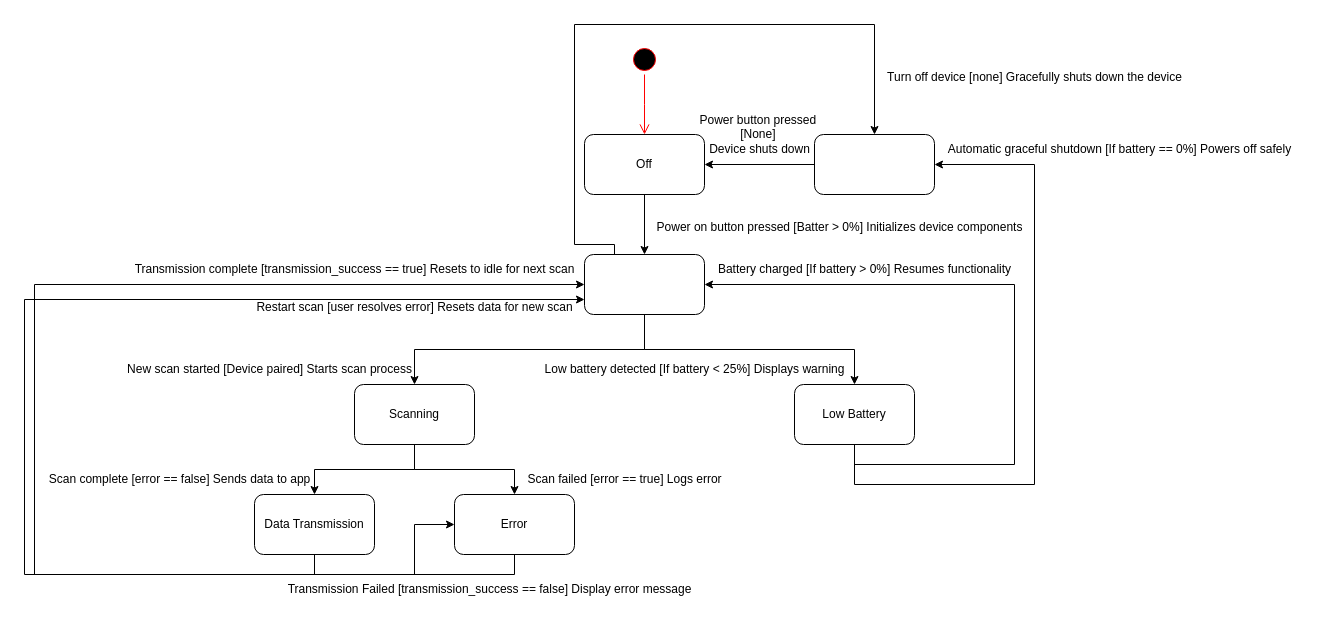
This 1322x622 diagram has some shape labels left out. The box of each missing label's shape, as (x1, y1, x2, y2) in pixels:
Idle: (584, 254, 704, 314)
Shutdown: (814, 134, 934, 194)
